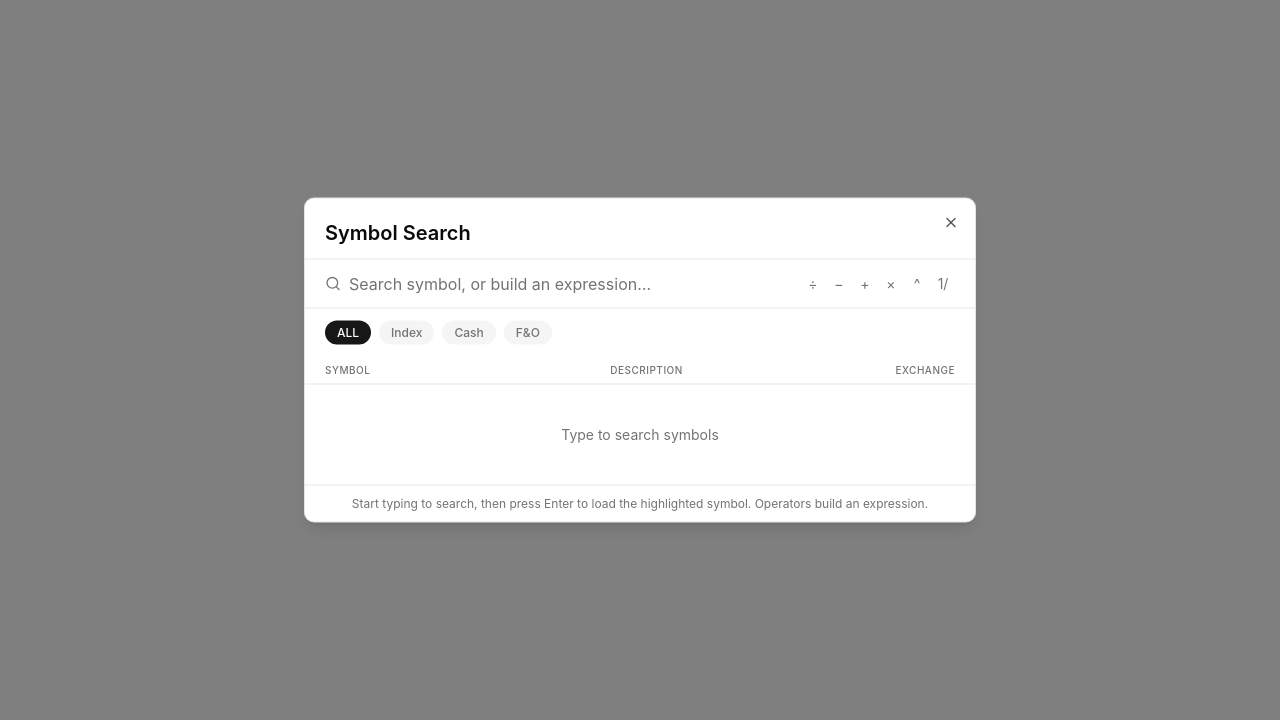
Scenario: SymbolSearchDialog › the operator keys write into the box and the reciprocal wraps it
The width and height of the screenshot is (1280, 720).
Type "NIFTY100EW" into the field labelled "Search symbol" at coordinates (571, 284), box left=349, top=272, right=793, bottom=296
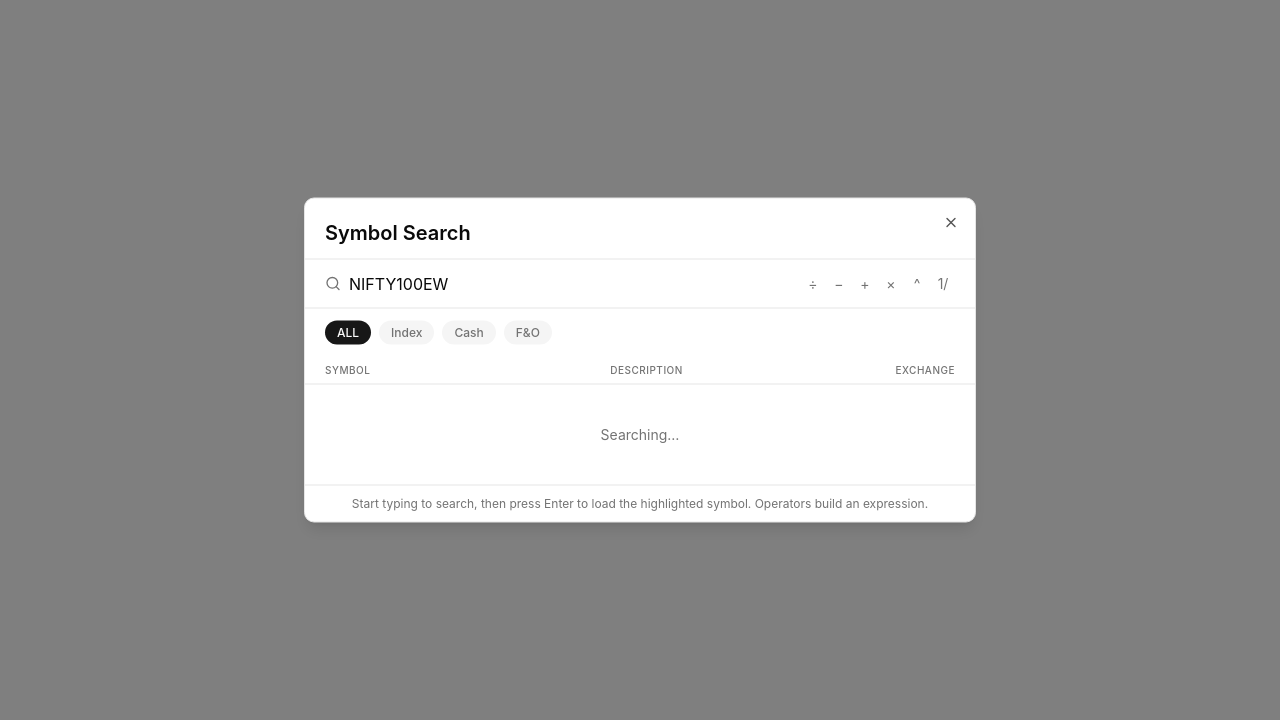
Click the button named "Divide" at coordinates (813, 284), box left=801, top=272, right=825, bottom=296
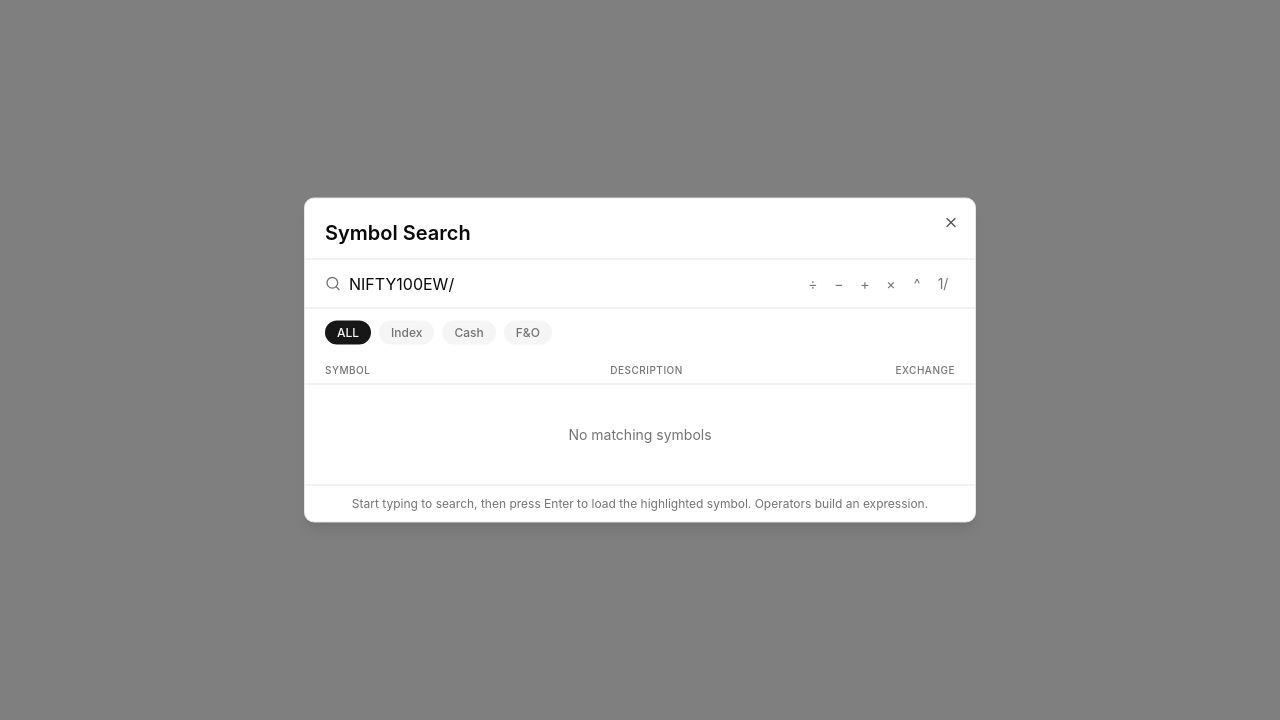
Type "NIFTY100QUALTY30" into the field named "Search symbol" at coordinates (571, 284), box left=349, top=272, right=793, bottom=296
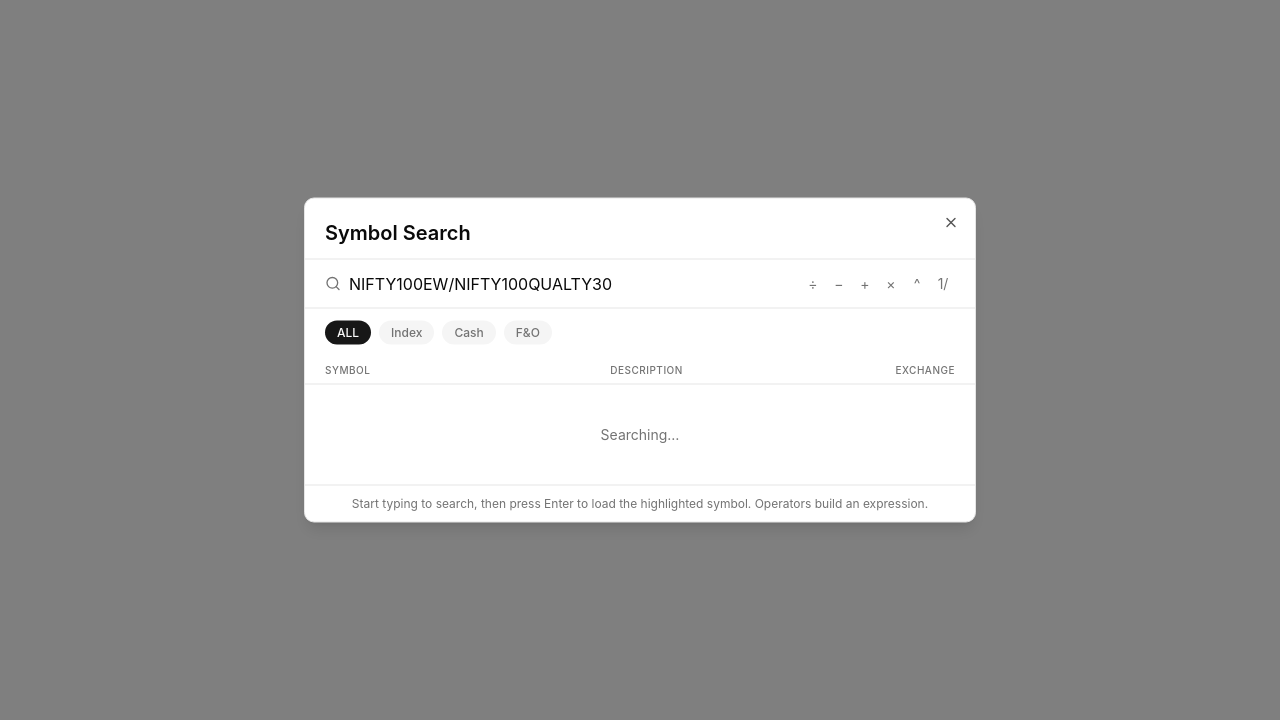
Expected: the field named "Search symbol" holds "NIFTY100EW/NIFTY100QUALTY30", left=349, top=272, right=793, bottom=296
Click the button named "Reciprocal" at coordinates (943, 284), box left=931, top=272, right=955, bottom=296
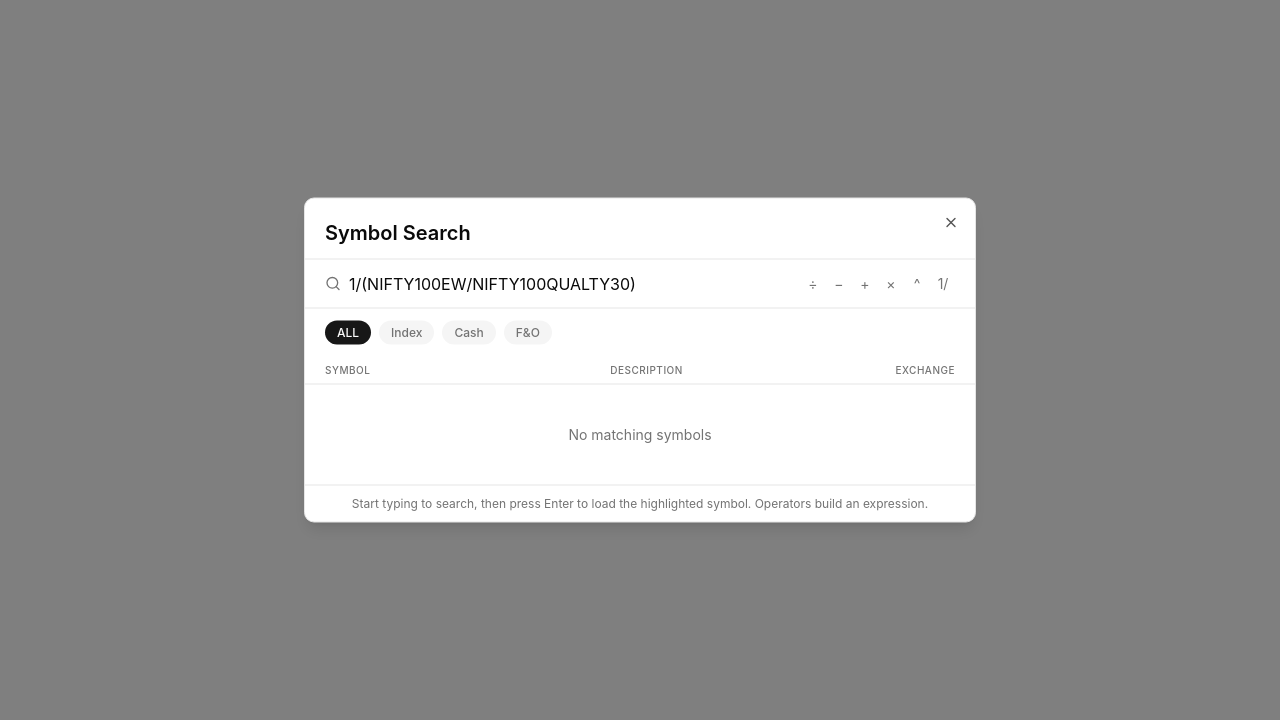
Expected: the field named "Search symbol" holds "1/(NIFTY100EW/NIFTY100QUALTY30)", left=349, top=272, right=793, bottom=296
